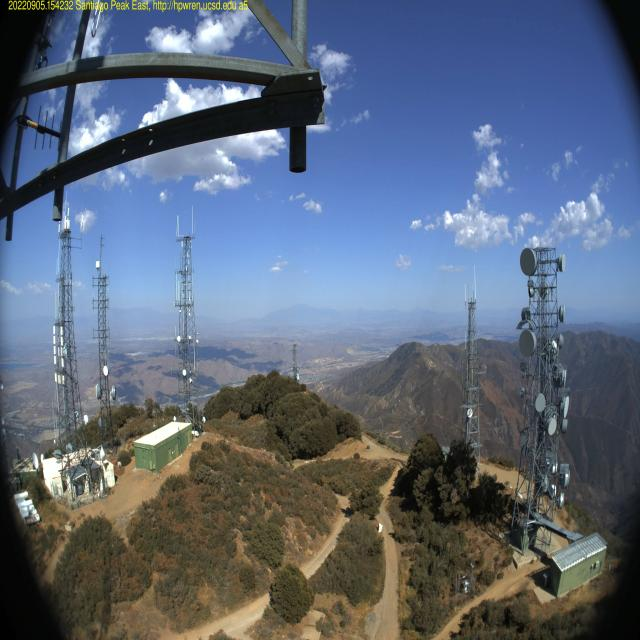smoke: (355, 292, 364, 331)
